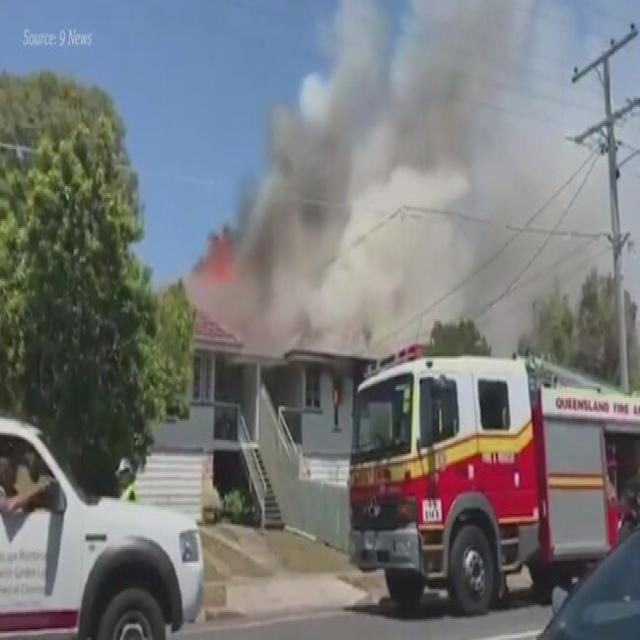smoke: (301, 98, 467, 341)
